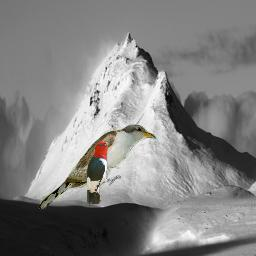Cuckoo: (36, 123, 158, 211)
Woodpecker: (86, 140, 121, 204)
